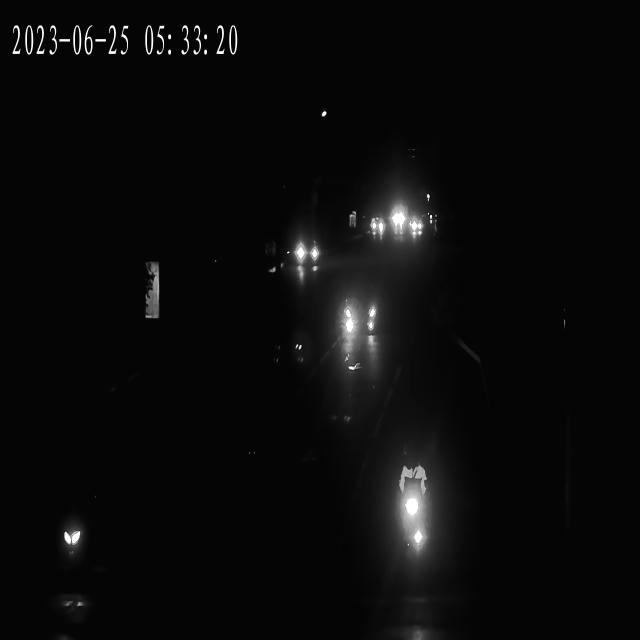Car: (344, 280, 382, 348), (294, 227, 324, 274), (387, 200, 408, 239), (409, 216, 424, 246), (370, 212, 386, 239)
Motorcycle: (385, 445, 437, 599), (60, 480, 100, 603)
